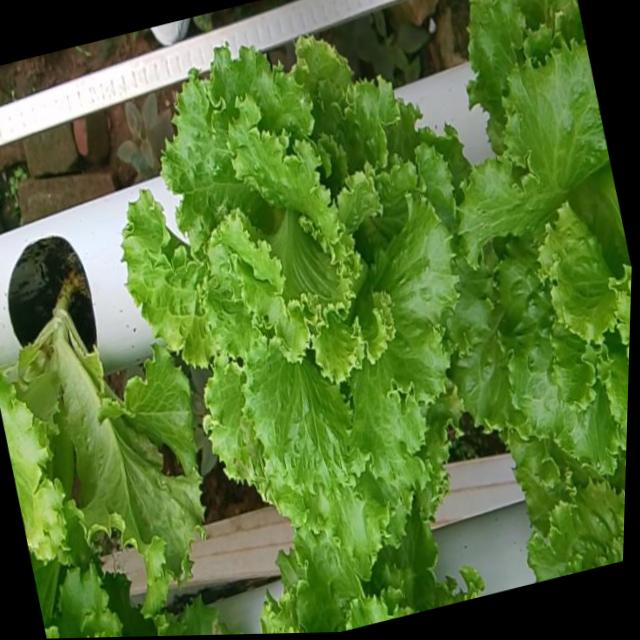Mature: (112, 29, 454, 547), (439, 18, 632, 464)
